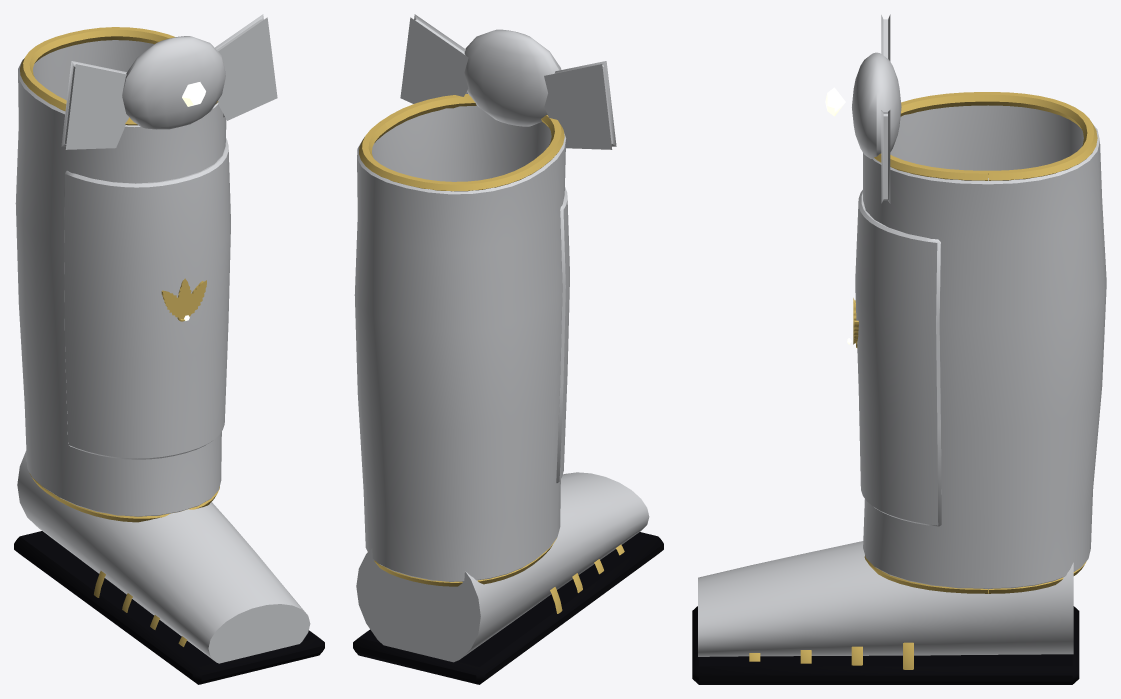
Rendered from esc_final_dawn_executor_boots.glb.
The picture shows the model from 3 angles, left to right: view 1: azimuth 30°, elevation 25°; view 2: azimuth 150°, elevation 25°; view 3: azimuth 270°, elevation 25°; orthographic projection. The views are drawn at different scales.
Parts seen in each view (by area): view 1: esc_final_dawn_executor_boots, AT_foot_L; view 2: esc_final_dawn_executor_boots, AT_foot_L; view 3: esc_final_dawn_executor_boots, AT_foot_L.
Boxes of the visible parts, x1,y1,x2,y2 form: esc_final_dawn_executor_boots: (15, 14, 277, 522); AT_foot_L: (14, 451, 324, 684); esc_final_dawn_executor_boots: (354, 14, 616, 586); AT_foot_L: (353, 472, 663, 684); esc_final_dawn_executor_boots: (825, 14, 1106, 593); AT_foot_L: (692, 541, 1079, 684).
Size of the model in its own units: 0.2244 by 0.5768 by 0.3641.
